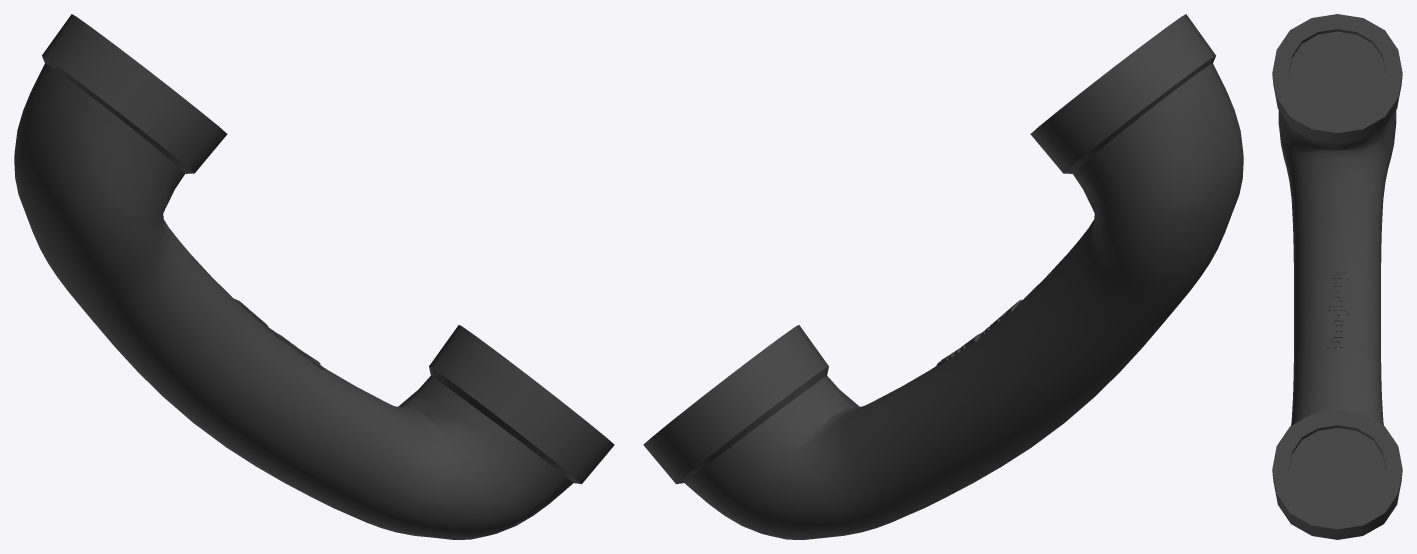
Rendered from telephone_receiver.fbx.
The picture shows the model from 3 angles, left to right: view 1: azimuth 30°, elevation 25°; view 2: azimuth 150°, elevation 25°; view 3: azimuth 270°, elevation 25°; orthographic projection. The views are drawn at different scales.
Visible parts, largest first — view 1: Cube.920; view 2: Cube.920; view 3: Cube.920.
Boxes of the visible parts, x1,y1,x2,y2 form: Cube.920: (14, 14, 614, 539); Cube.920: (643, 14, 1243, 539); Cube.920: (1272, 14, 1402, 539).
Bounding box in the file's own units: 223 × 223 × 67.42.
1 material, 1 textured.
